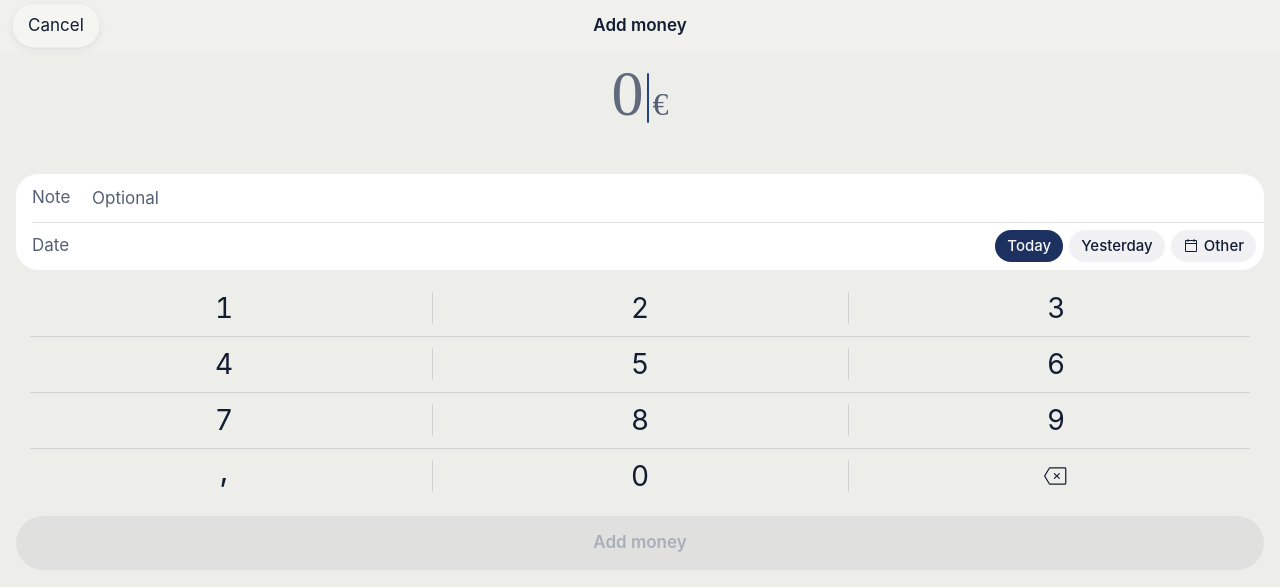
Test case: adding money (SPEC §3.12) › hides the keypad while the note is typed
The image size is (1280, 587).
Click the field labelled "Note" at (670, 198), box [92,176,1248,220]
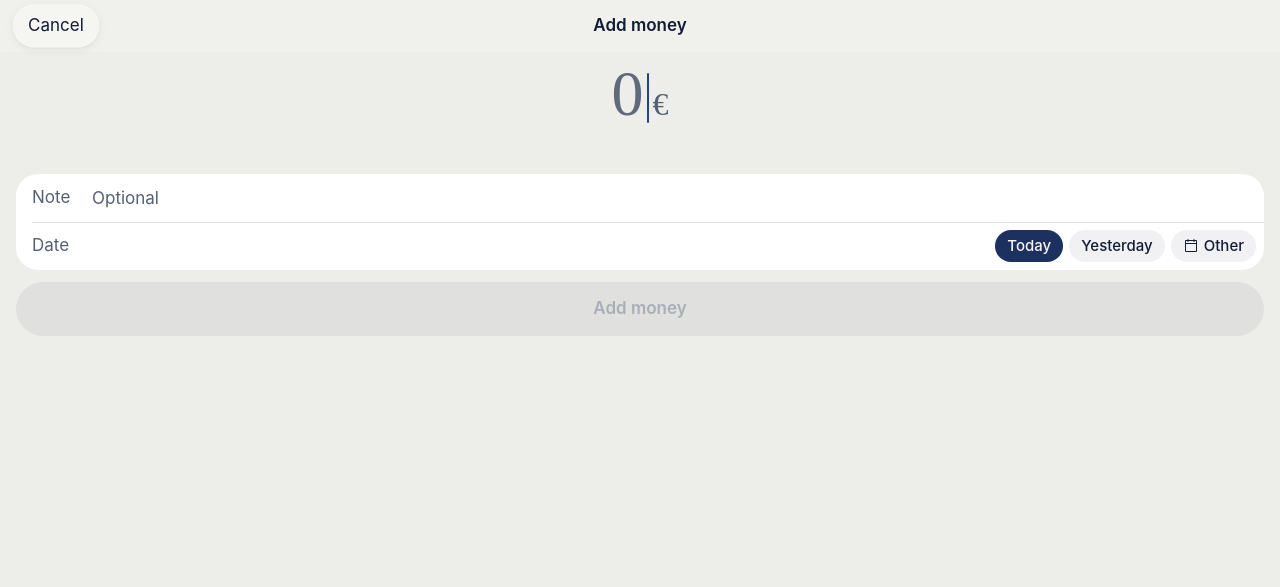
Press Enter
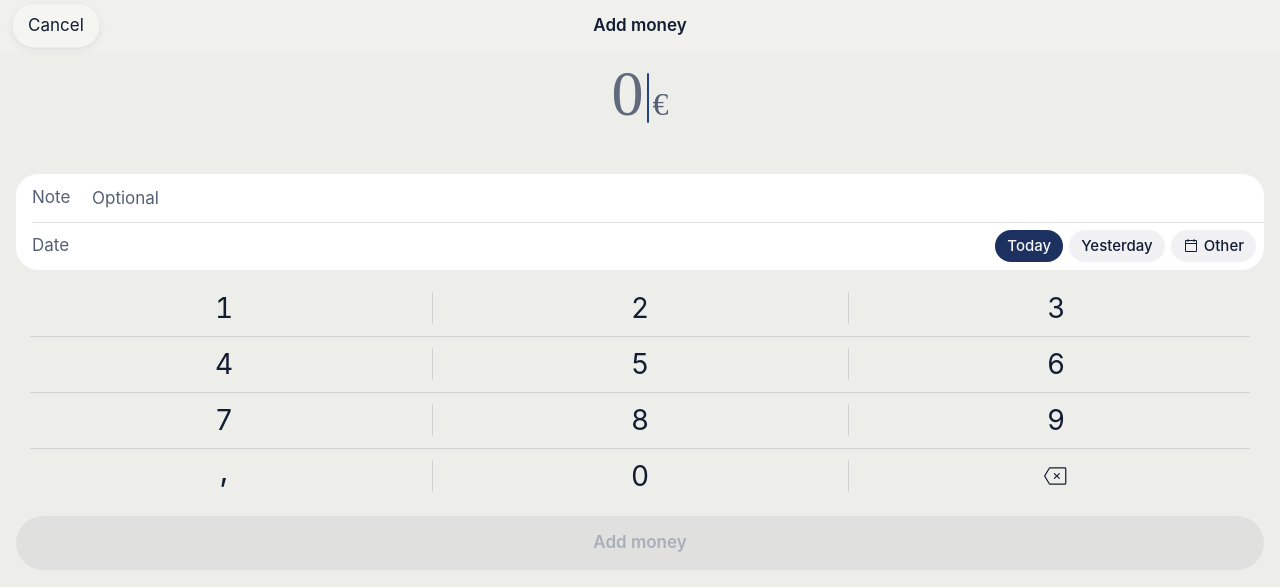
Now the element named "Amount keypad" is shown, box [16,280,1264,504]
